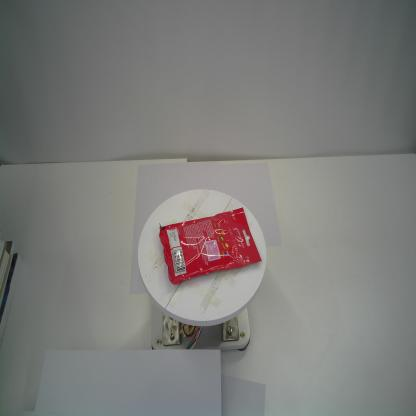Candy: (159, 207, 262, 286)
